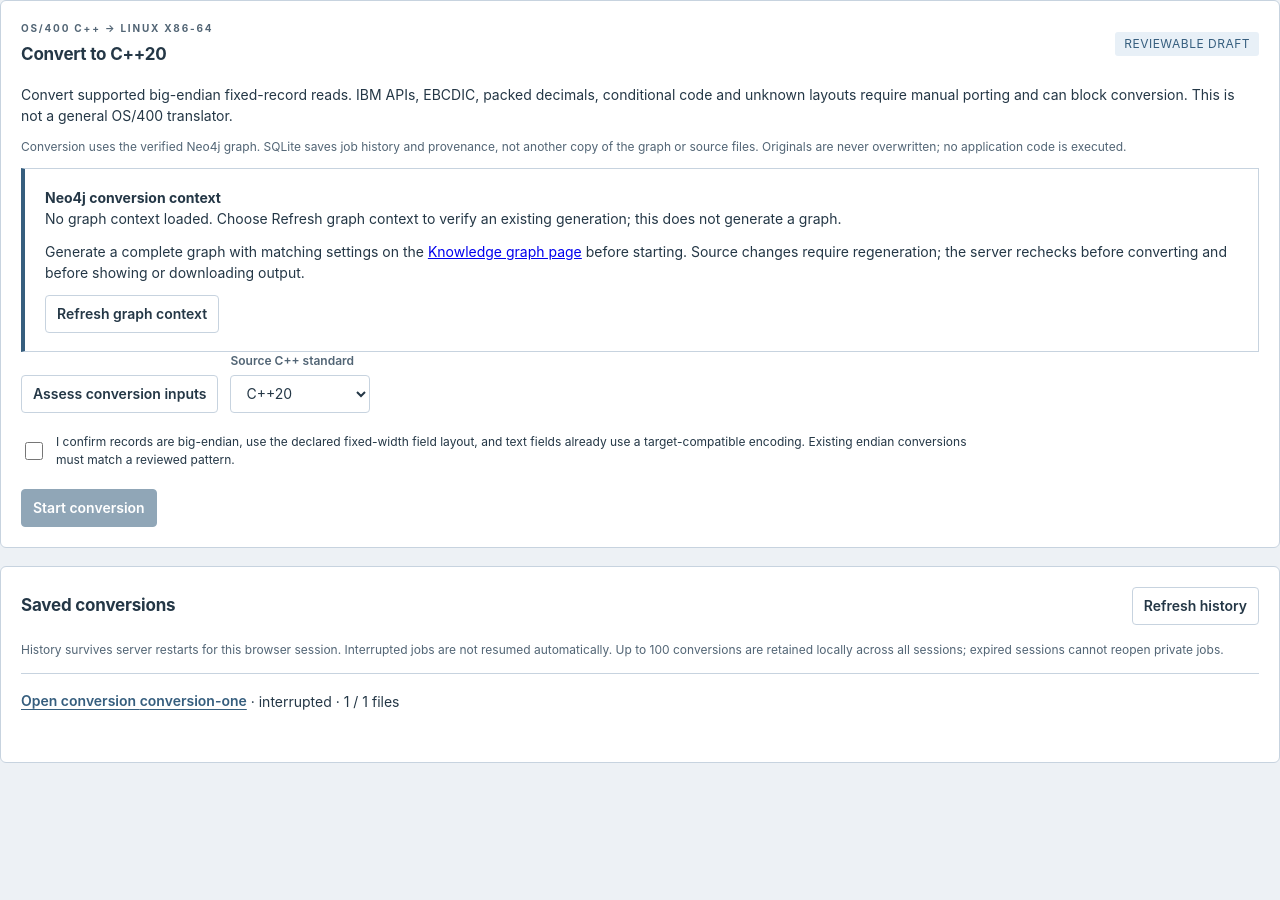
Test case: recovers an interrupted conversion from saved history without resubmitting it
Click the button "Open conversion conversion-one" at (134, 700), box x1=21 y1=686 x2=247 y2=716
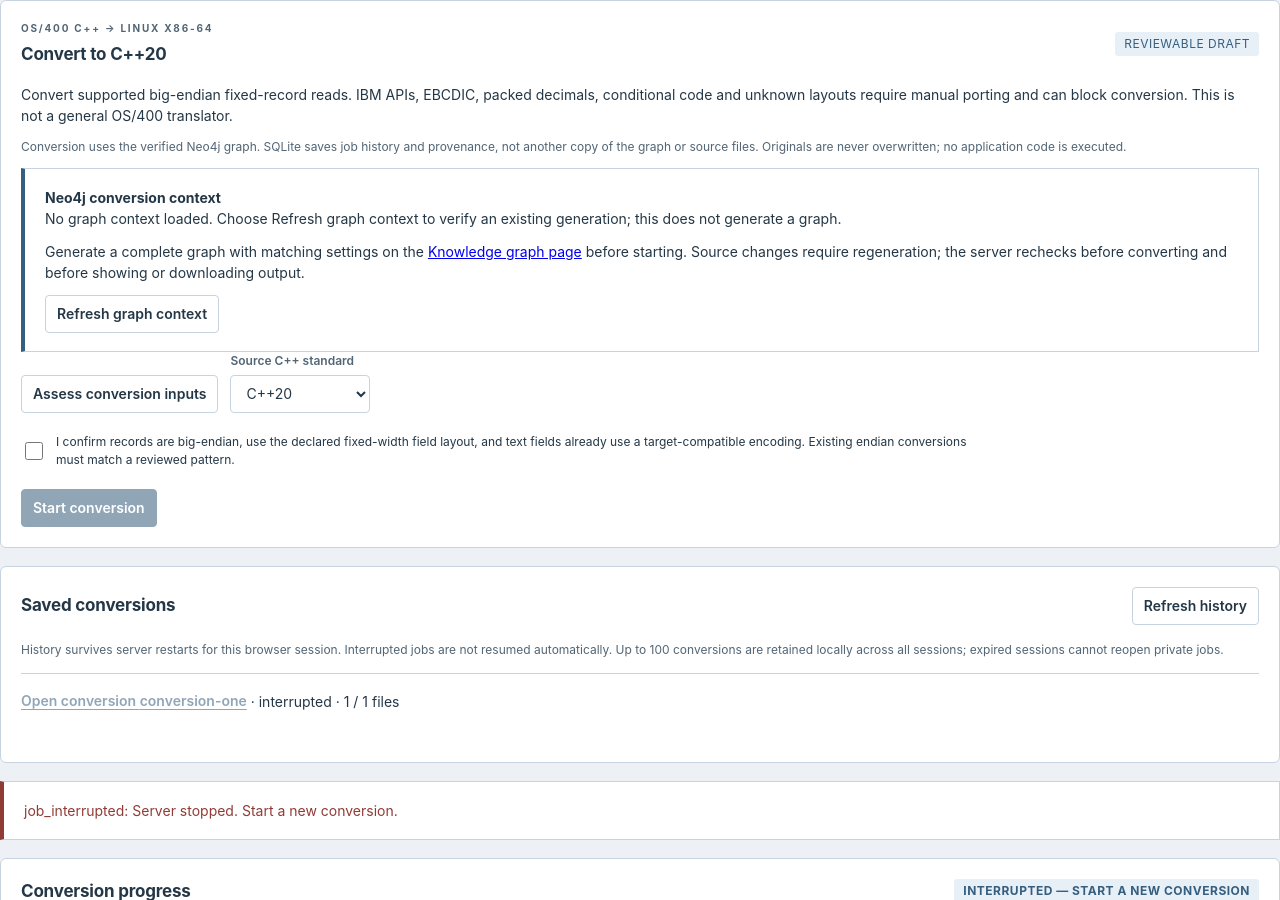
Expected: the message "job_interrupted: Server stopped. Start a new conversion." is shown, x1=0 y1=780 x2=1279 y2=840
